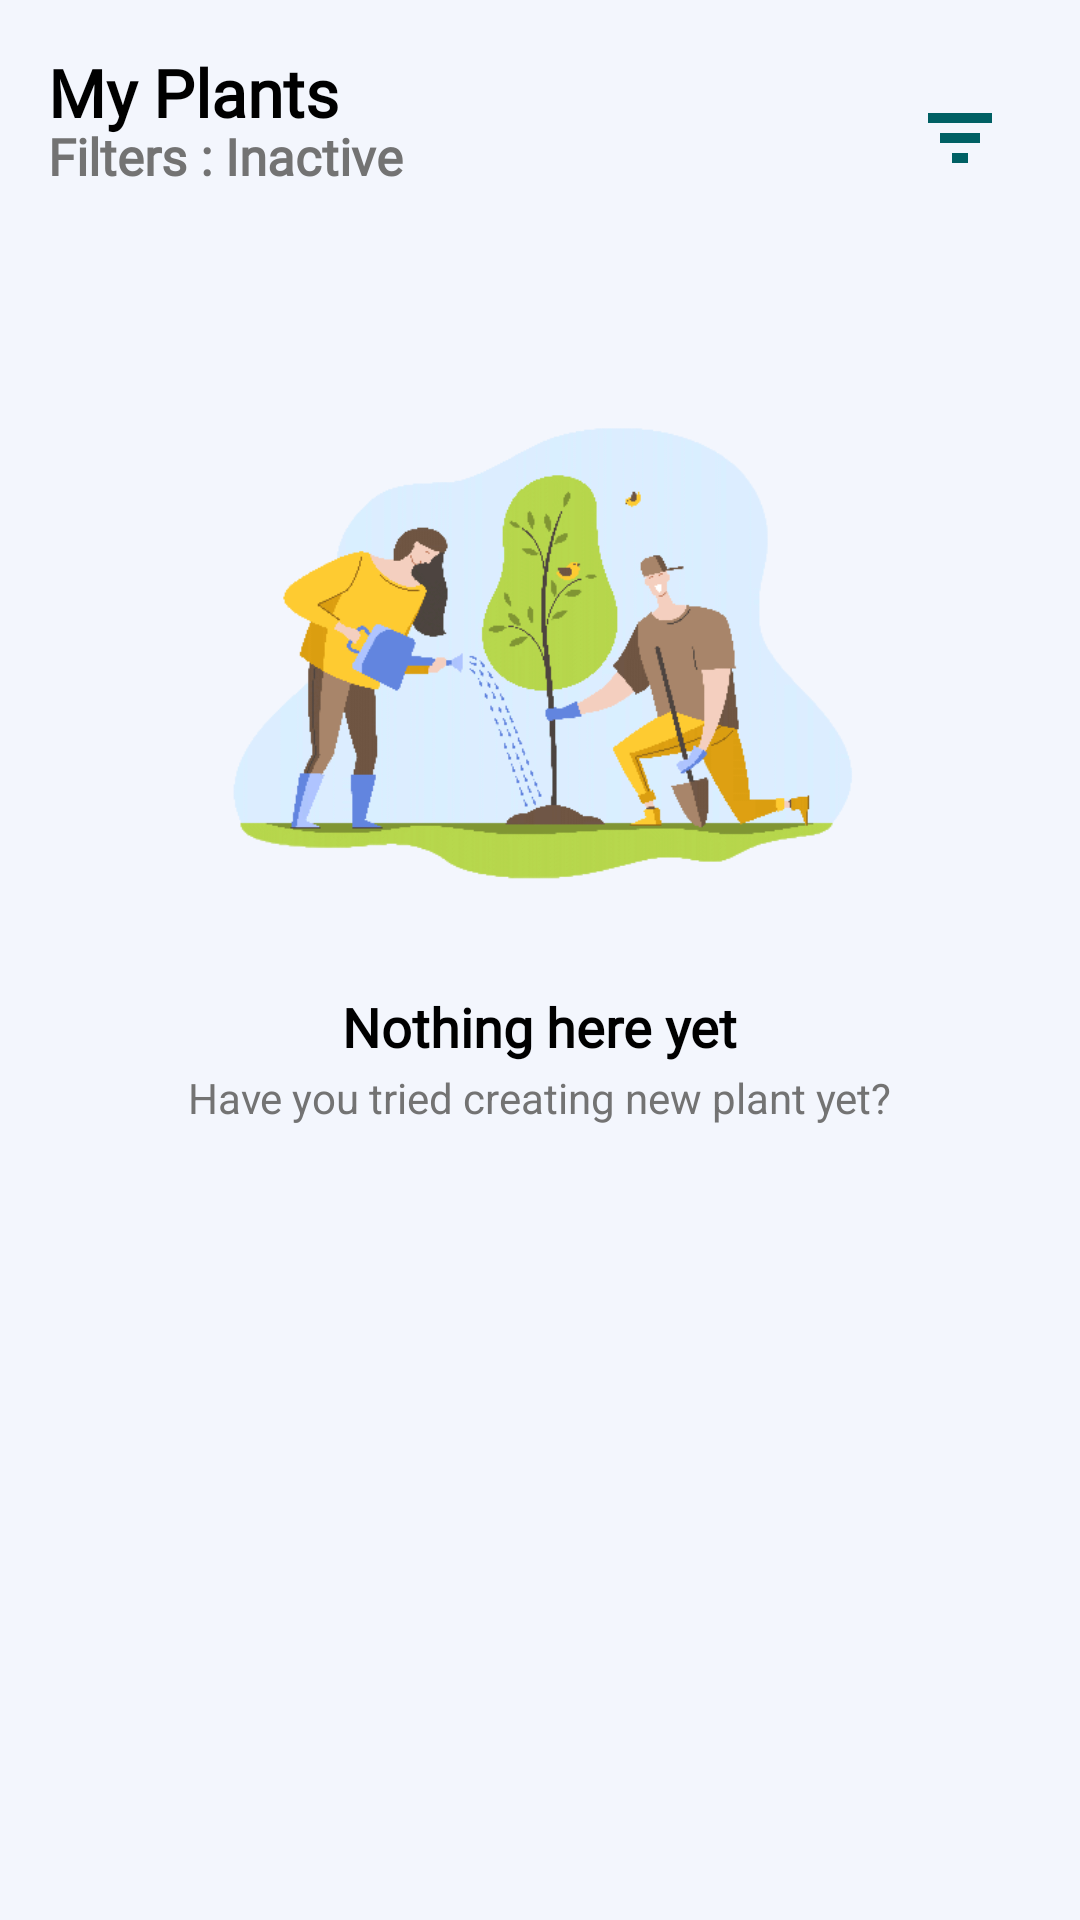

Icons on this 1080px x 1920px Android screen, each with the point to tap as (x,y):
Choose filters: (960,138)
